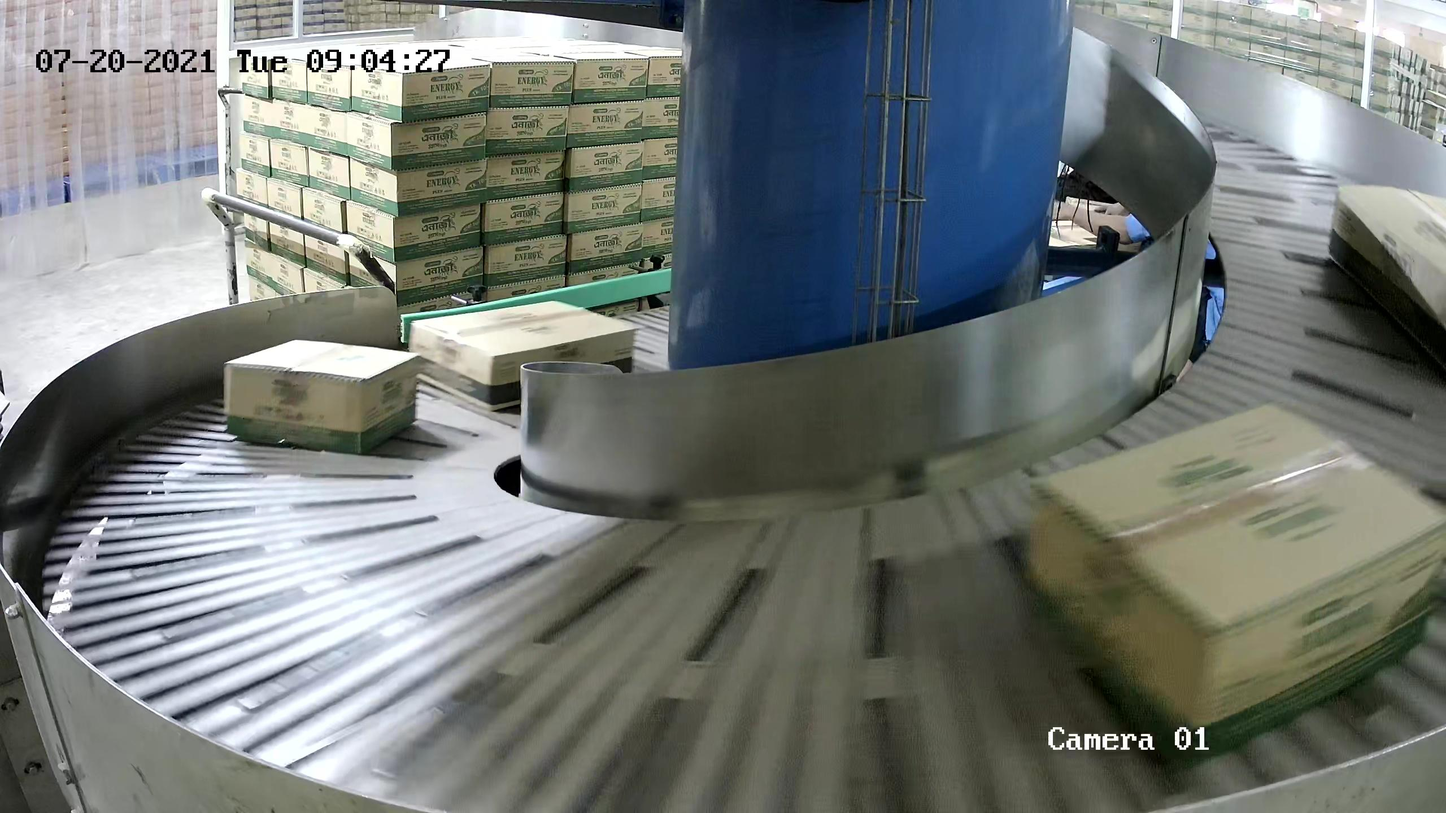Box: (1020, 399, 1446, 769), (407, 298, 638, 412), (223, 338, 420, 454), (1327, 182, 1446, 373)
